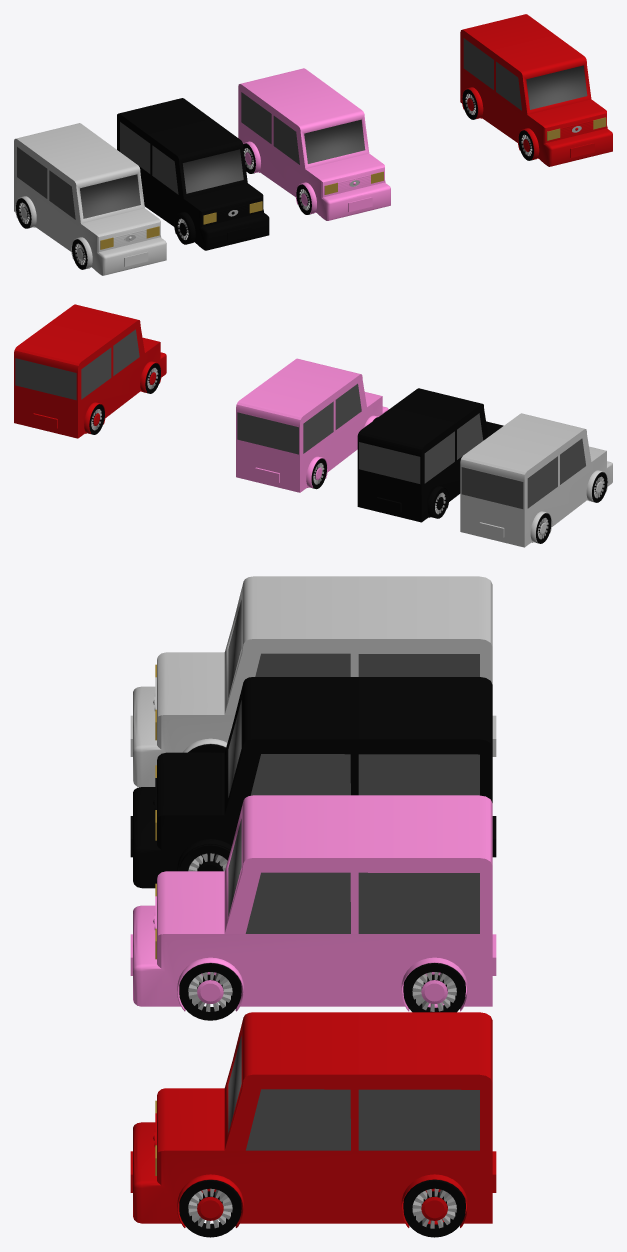
Rendered from npc_cars_corrected_origin.fbx.
The picture shows the model from 3 angles, top to bottom: view 1: azimuth 30°, elevation 25°; view 2: azimuth 150°, elevation 25°; view 3: azimuth 270°, elevation 25°; orthographic projection. The views are drawn at different scales.
Parts seen in each view (by area): view 1: car01_red.002, car01_silver, car01_pink, car01_black; view 2: car01_silver, car01_red.002, car01_pink, car01_black; view 3: car01_red.002, car01_pink, car01_black, car01_silver.
Boxes of the visible parts, x1=… form: car01_red.002: x1=460, y1=14, x2=612, y2=166; car01_silver: x1=14, y1=123, x2=166, y2=275; car01_pink: x1=238, y1=68, x2=390, y2=220; car01_black: x1=117, y1=98, x2=269, y2=250; car01_silver: x1=460, y1=413, x2=612, y2=547; car01_red.002: x1=14, y1=304, x2=166, y2=438; car01_pink: x1=236, y1=358, x2=388, y2=492; car01_black: x1=357, y1=388, x2=503, y2=522; car01_red.002: x1=130, y1=1012, x2=496, y2=1237; car01_pink: x1=130, y1=795, x2=496, y2=1020; car01_black: x1=130, y1=677, x2=496, y2=888; car01_silver: x1=130, y1=576, x2=496, y2=787.
Size of the model in its own units: 378 by 54.89 by 115.
